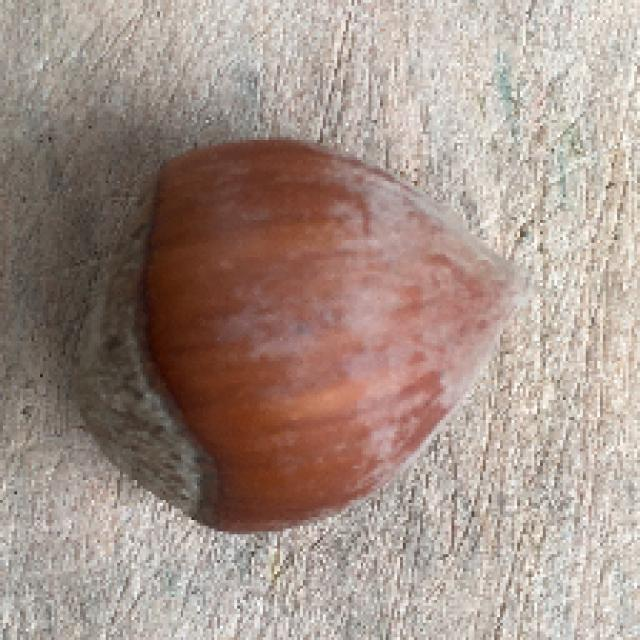qualityHazelnut: (55, 128, 533, 538)
